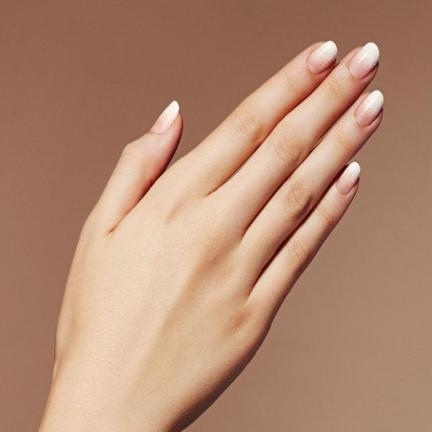Nail: (348, 42, 380, 79), (355, 89, 385, 126), (307, 40, 338, 74), (149, 101, 179, 132), (336, 162, 361, 194)
